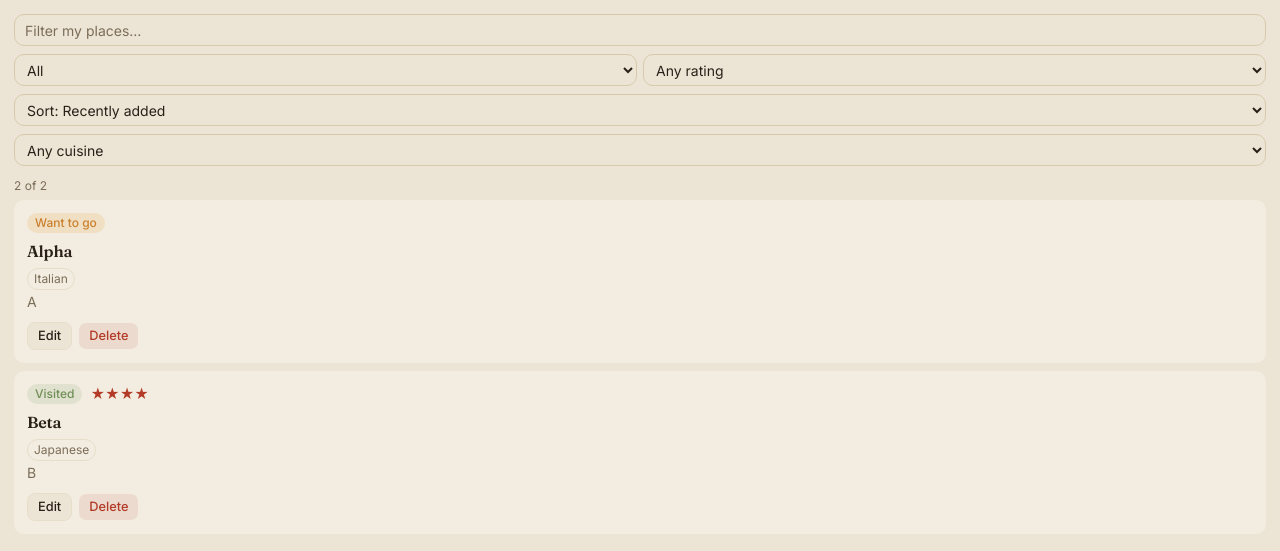
PlaceList › filters by status
Select "Visited" in the 1st dropdown showing "All" at (326, 70), box [14,54,637,86]
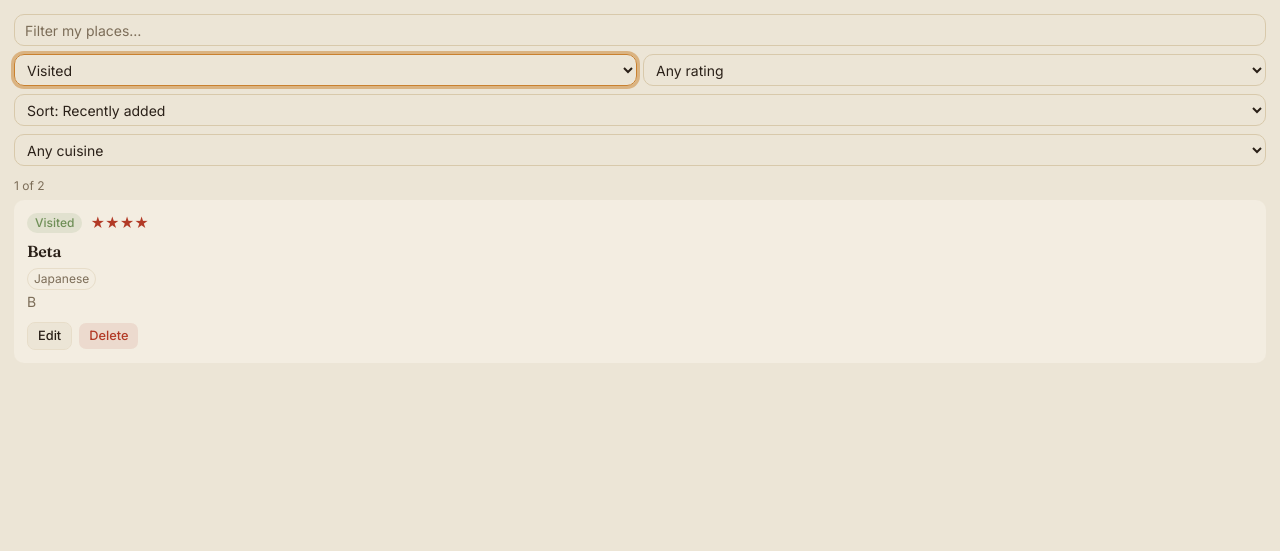
Expected: the heading "Beta" is shown, [27,241,62,261]
Now the heading "Alpha" is gone
Now the text "1 of 2" is shown, box [14,178,45,193]
